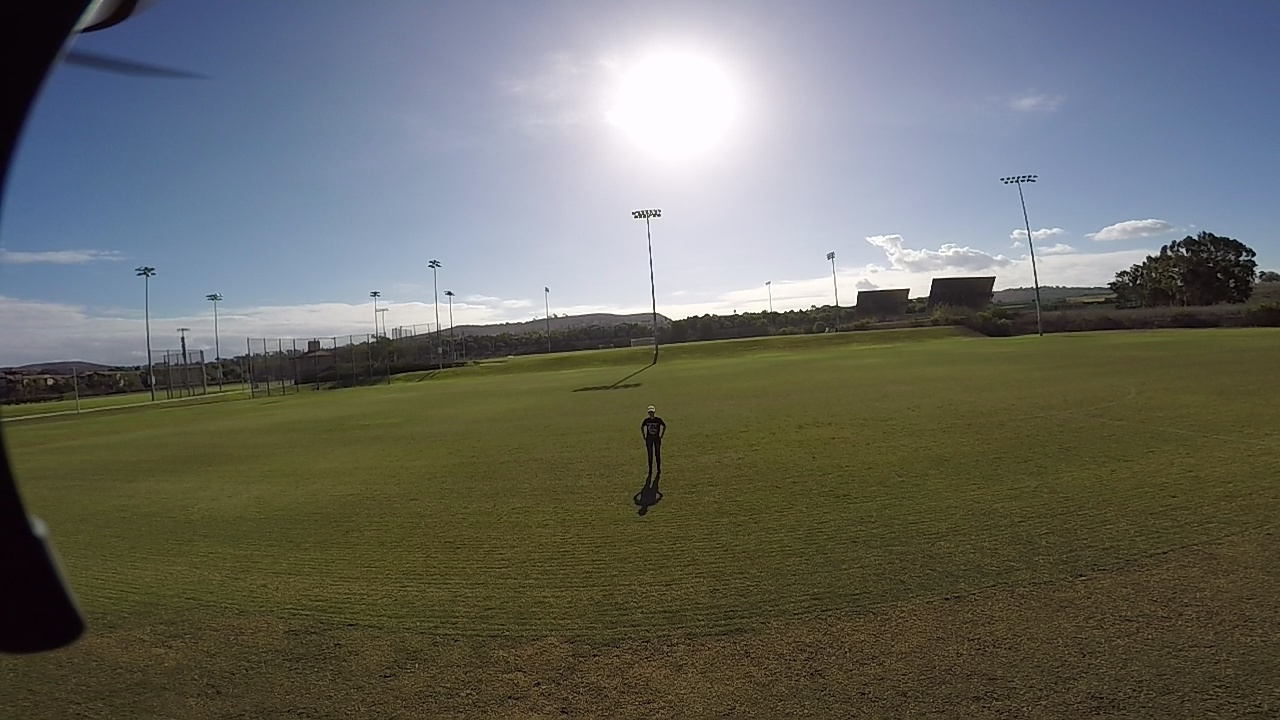person: (631, 399, 662, 507)
